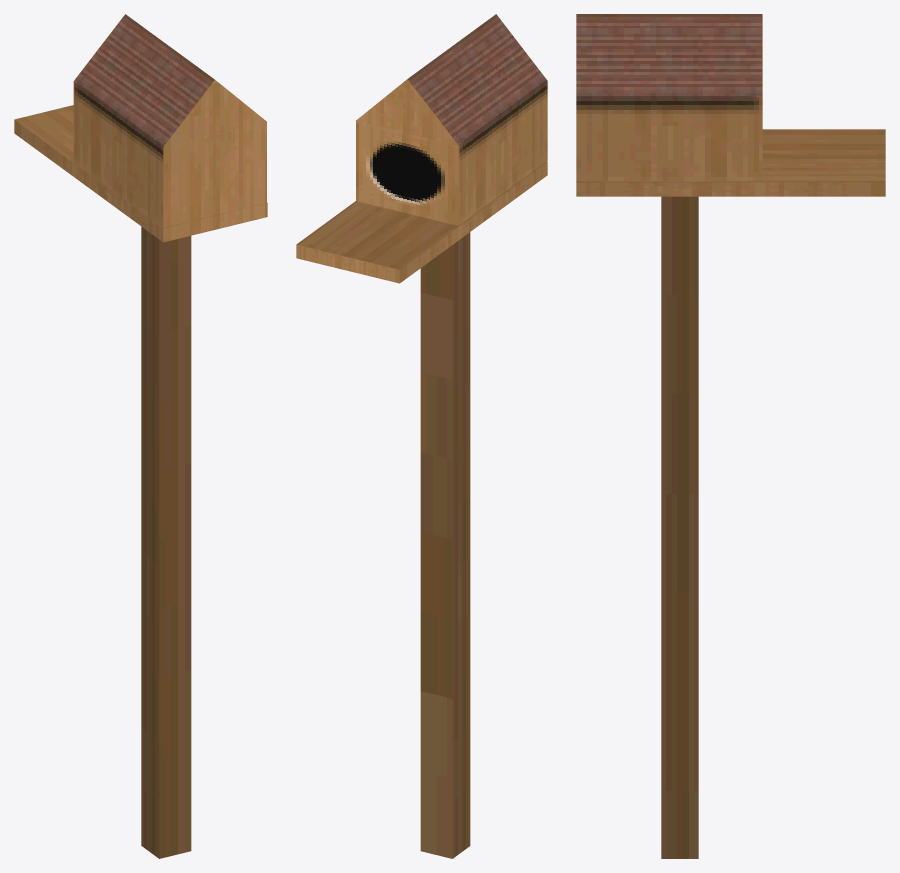
Rendered from BIRDHOUSE04.glb.
3 renders of one model, left to right at view 1: azimuth 30°, elevation 25°; view 2: azimuth 150°, elevation 25°; view 3: azimuth 270°, elevation 25°, orthographic. The views are drawn at different scales.
Visible parts, largest first — view 1: BIRDHOUSE04; view 2: BIRDHOUSE04; view 3: BIRDHOUSE04.
Part boxes in pixels (x1,y1,x2,y2): BIRDHOUSE04: (14, 14, 267, 858); BIRDHOUSE04: (296, 14, 547, 858); BIRDHOUSE04: (576, 14, 885, 858).
Size of the model in its own units: 29.46 by 217 by 72.76.
Materials: 1 (1 with a texture image).
